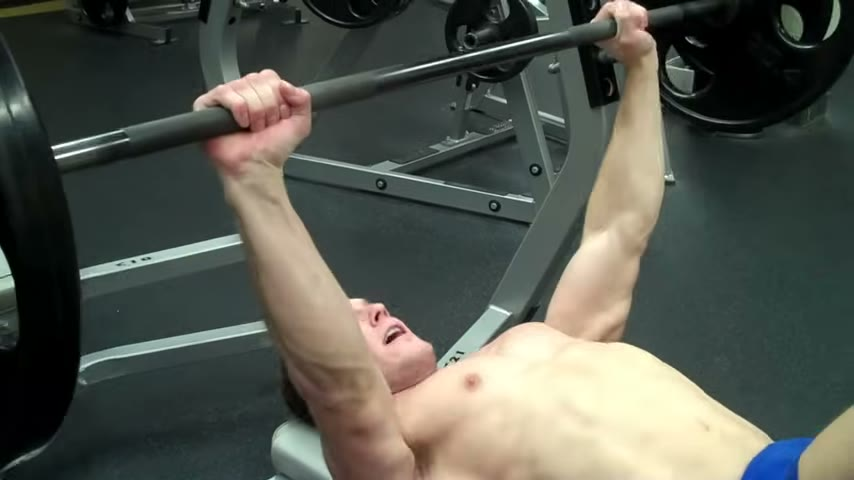barbell_plate_side: (0, 17, 93, 480), (782, 0, 853, 154)
